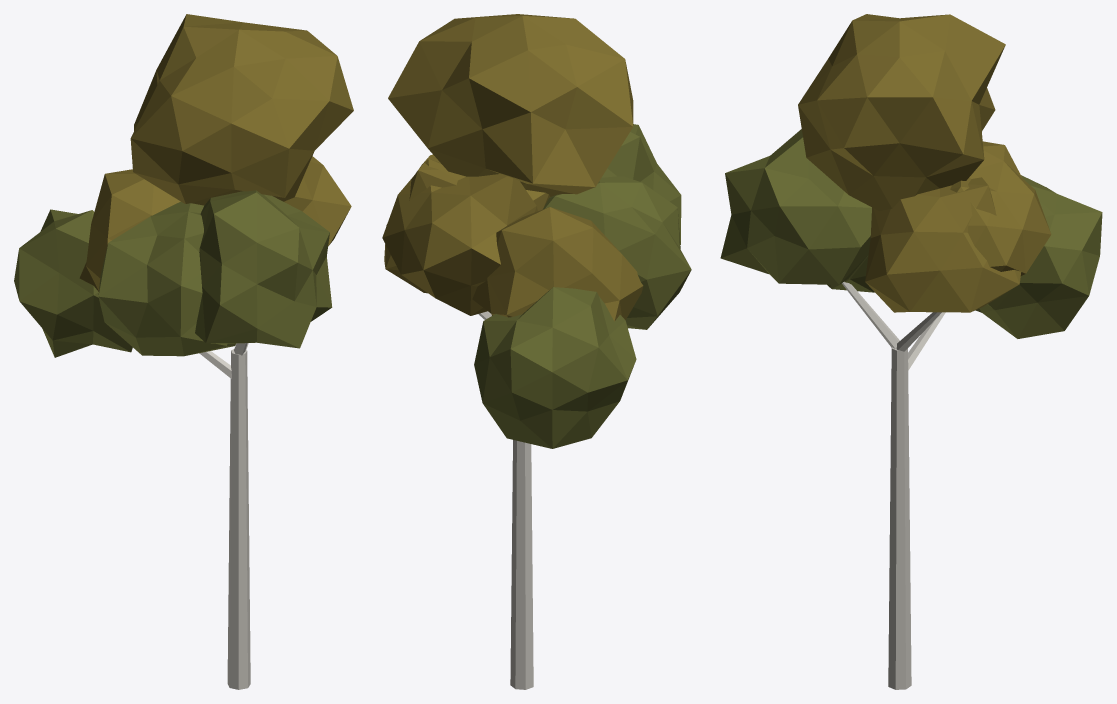
Rendered from broadleaf_birch.glb.
The picture shows the model from 3 angles, left to right: view 1: azimuth 30°, elevation 25°; view 2: azimuth 150°, elevation 25°; view 3: azimuth 270°, elevation 25°; orthographic projection. The views are drawn at different scales.
Visible parts, largest first — view 1: broadleaf_birch; view 2: broadleaf_birch; view 3: broadleaf_birch.
Part boxes in pixels (x1,y1,x2,y2): broadleaf_birch: [14, 14, 353, 689]; broadleaf_birch: [382, 14, 691, 689]; broadleaf_birch: [720, 14, 1102, 689].
Size of the model in its own units: 5.21 by 12.18 by 6.35.
